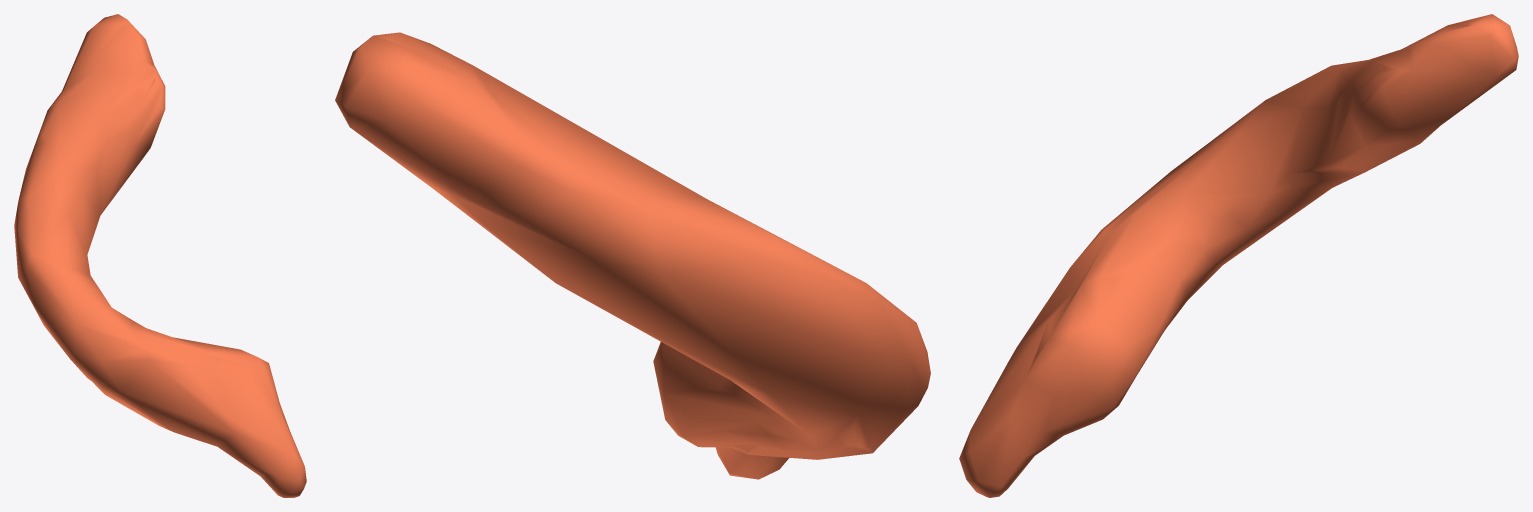
The model's file is External_anal_sphincter.r_Generated_Mesh_From_X3D.883.glb.
The picture shows the model from 3 angles, left to right: view 1: azimuth 30°, elevation 25°; view 2: azimuth 150°, elevation 25°; view 3: azimuth 270°, elevation 25°; orthographic projection. The views are drawn at different scales.
Visible parts, largest first — view 1: External_anal_sphincter.r_Generated_Mesh_From_X3D.883; view 2: External_anal_sphincter.r_Generated_Mesh_From_X3D.883; view 3: External_anal_sphincter.r_Generated_Mesh_From_X3D.883.
Boxes of the visible parts, x1,y1,x2,y2 form: External_anal_sphincter.r_Generated_Mesh_From_X3D.883: (14,14,306,497); External_anal_sphincter.r_Generated_Mesh_From_X3D.883: (335,32,930,479); External_anal_sphincter.r_Generated_Mesh_From_X3D.883: (959,14,1518,497).
Size of the model in its own units: 0.012 by 0.0216 by 0.0229.
